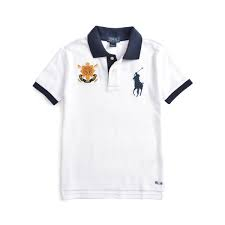S_polo shirt: (32, 23, 197, 198)
